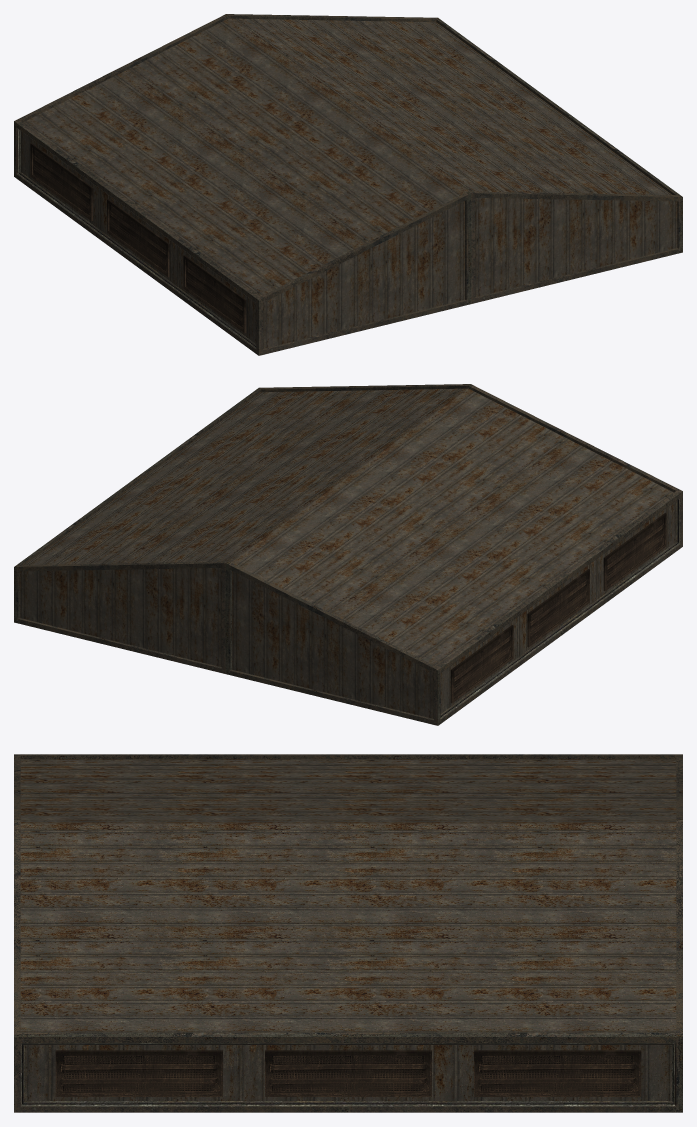
The model's file is roof_mh_4_b_2.obj.
The picture shows the model from 3 angles, top to bottom: view 1: azimuth 30°, elevation 25°; view 2: azimuth 150°, elevation 25°; view 3: azimuth 270°, elevation 25°; orthographic projection. The views are drawn at different scales.
Parts seen in each view (by area): view 1: roof_mh_4_b_2; view 2: roof_mh_4_b_2; view 3: roof_mh_4_b_2.
Part boxes in pixels (bbox=[...]): roof_mh_4_b_2: bbox=[14, 14, 682, 355]; roof_mh_4_b_2: bbox=[14, 384, 682, 725]; roof_mh_4_b_2: bbox=[14, 754, 682, 1112].
Size of the model in its own units: 8 by 2 by 8.
